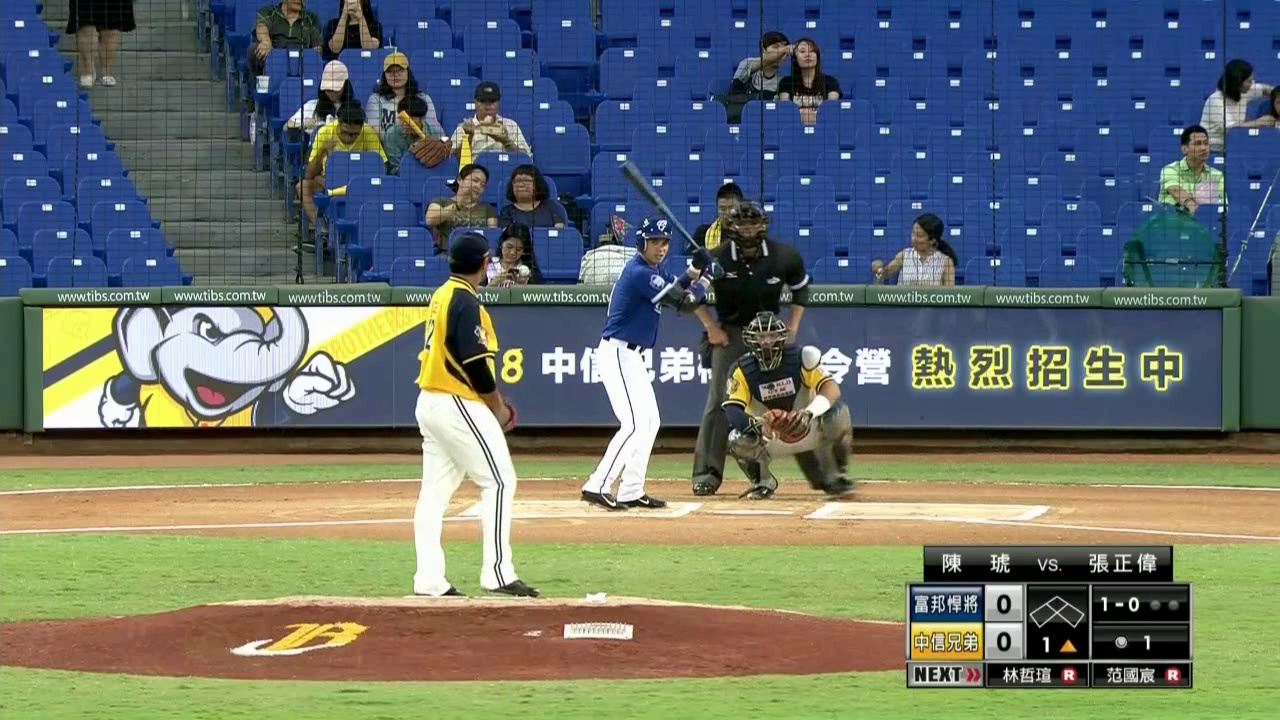base: (1029, 594, 1088, 630)
bat: (618, 158, 713, 269)
out: (1145, 594, 1186, 619)
score1: (990, 590, 1021, 617)
score2: (990, 622, 1019, 660)
session: (1032, 634, 1085, 658)
strikeball: (1096, 589, 1142, 614)
total: (1104, 627, 1162, 652)
